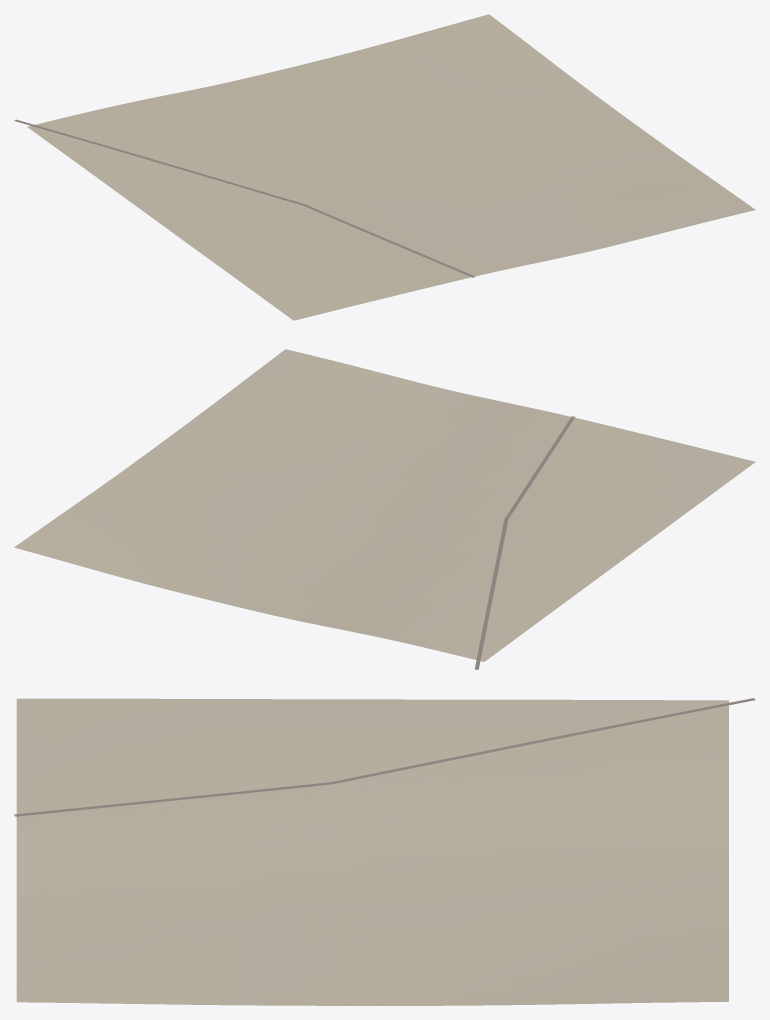
File: bolak_22_-4.glb
The picture shows the model from 3 angles, top to bottom: view 1: azimuth 30°, elevation 25°; view 2: azimuth 150°, elevation 25°; view 3: azimuth 270°, elevation 25°; orthographic projection. The views are drawn at different scales.
Parts seen in each view (by area): view 1: Yer_Tuproq-col, Temir_Yol; view 2: Yer_Tuproq-col, Temir_Yol; view 3: Yer_Tuproq-col, Temir_Yol.
Part boxes in pixels (bbox=[...]): Yer_Tuproq-col: bbox=[27, 14, 755, 320]; Temir_Yol: bbox=[14, 119, 475, 277]; Yer_Tuproq-col: bbox=[14, 349, 755, 661]; Temir_Yol: bbox=[474, 416, 575, 669]; Yer_Tuproq-col: bbox=[16, 698, 728, 1005]; Temir_Yol: bbox=[14, 698, 755, 816].
Bounding box in the file's own units: 403 × 5.59 × 417.
